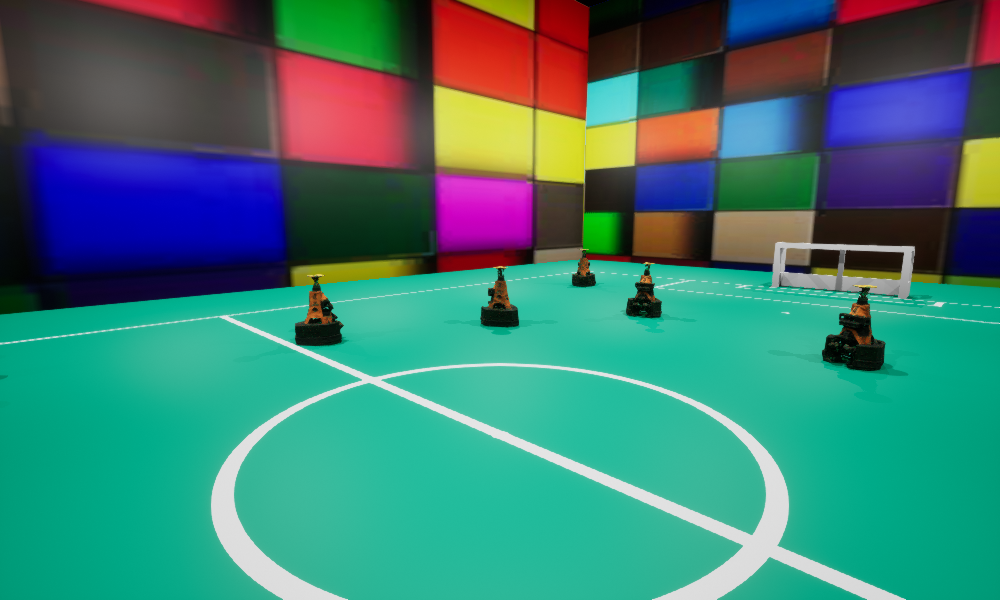o: (822, 285, 885, 370), (295, 274, 343, 345), (480, 266, 518, 326), (626, 262, 661, 317), (572, 249, 595, 286)
